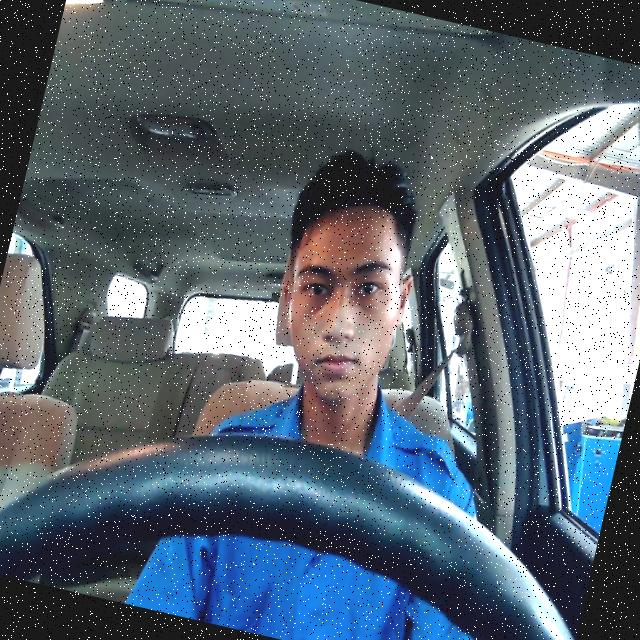focused: (257, 189, 428, 415)
